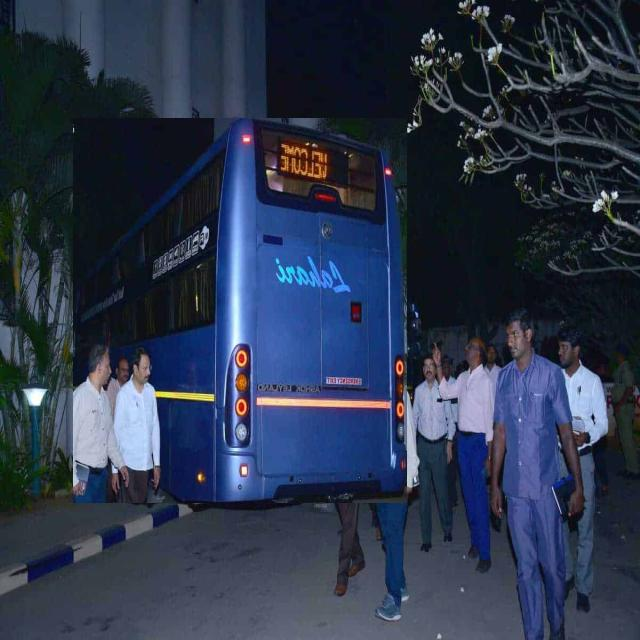bus: (74, 119, 407, 503)
